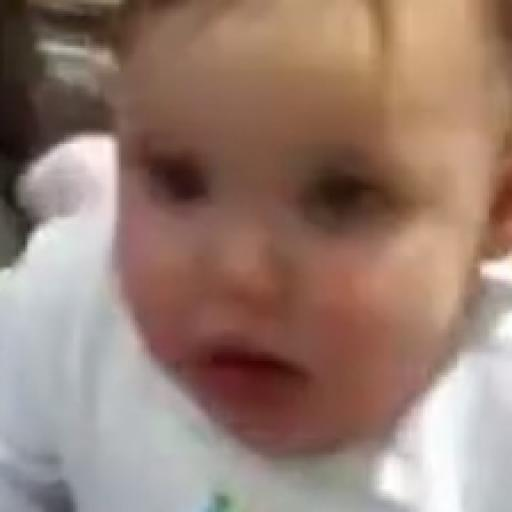Autism: (106, 43, 512, 436)
